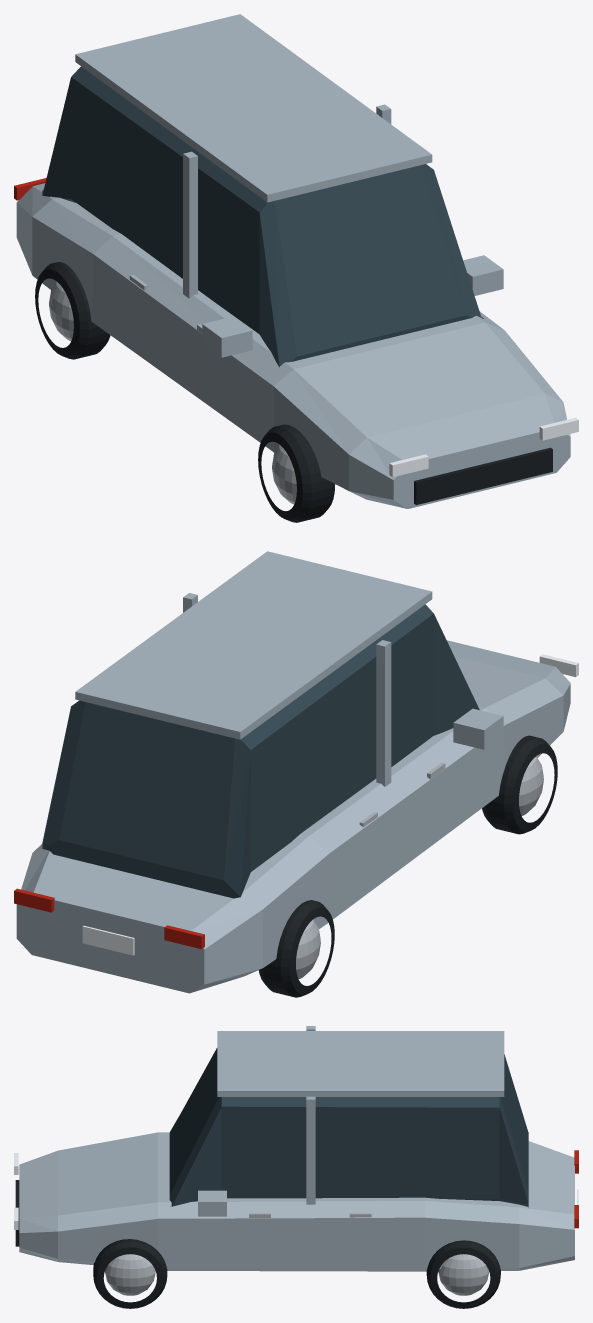
The model's file is campus_van.glb.
The picture shows the model from 3 angles, top to bottom: view 1: azimuth 30°, elevation 25°; view 2: azimuth 150°, elevation 25°; view 3: azimuth 270°, elevation 25°; orthographic projection. The views are drawn at different scales.
Parts seen in each view (by area): view 1: body, glass, roof, wheel-front-right, lower-grille, wheel-back-right, mirror (×2), window-pillar, alloy-hub (×2); view 2: glass, body, roof, wheel-front-right, wheel-back-right, window-pillar, alloy-hub (×2), mirror, rear-light (×2), number-plate; view 3: body, glass, roof, alloy-hub (×2), wheel-front-left, wheel-back-left, window-pillar, mirror.
Boxes of the visible parts, box(x1,y1,x2,y2) form: body: box(16, 183, 570, 508); glass: box(42, 66, 483, 366); roof: box(75, 14, 432, 202); wheel-front-right: box(258, 424, 335, 522); lower-grille: box(414, 447, 552, 504); wheel-back-right: box(35, 262, 110, 359); mirror (×2): box(202, 255, 503, 357); window-pillar: box(183, 151, 197, 298); alloy-hub (×2): box(49, 281, 296, 504); glass: box(42, 604, 479, 898); body: box(16, 640, 570, 993); roof: box(75, 551, 432, 739); wheel-front-right: box(482, 735, 557, 834); wheel-back-right: box(258, 900, 334, 997); window-pillar: box(376, 640, 391, 786); alloy-hub (×2): box(296, 756, 543, 978); mirror: box(453, 708, 503, 749); rear-light (×2): box(14, 888, 204, 949); number-plate: box(82, 925, 134, 955); body: box(19, 1132, 574, 1271); glass: box(169, 1048, 528, 1207); roof: box(217, 1031, 504, 1096); alloy-hub (×2): box(105, 1254, 489, 1295); wheel-front-left: box(93, 1239, 167, 1308); wheel-back-left: box(426, 1240, 500, 1308); window-pillar: box(306, 1096, 315, 1204); mirror: box(198, 1190, 226, 1216).
Bounding box in the file's own units: 2.1 × 1.94 × 4.88.
